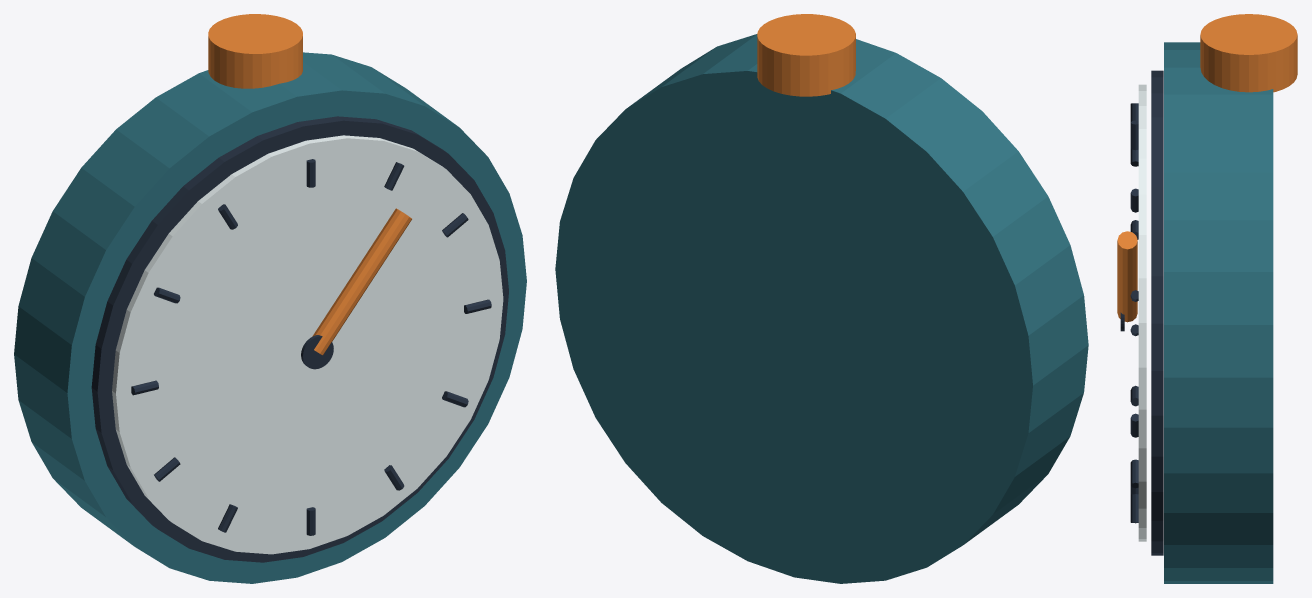
The model's file is timer.glb.
3 renders of one model, left to right at view 1: azimuth 30°, elevation 25°; view 2: azimuth 150°, elevation 25°; view 3: azimuth 270°, elevation 25°, orthographic. The views are drawn at different scales.
Parts seen in each view (by area): view 1: dial, housing, bezel, knob, timer hand0, hub; view 2: housing, knob; view 3: housing, knob, bezel, dial, timer hand0, tick 0, tick 5, tick 4.
Part boxes in pixels (x1,y1,x2,y2): dial: [112, 135, 503, 554]; housing: [14, 52, 526, 583]; bezel: [91, 116, 508, 562]; knob: [208, 14, 302, 88]; timer hand0: [312, 208, 411, 355]; hub: [301, 335, 333, 369]; housing: [555, 34, 1088, 583]; knob: [757, 14, 855, 96]; housing: [1164, 42, 1273, 583]; knob: [1200, 14, 1297, 92]; bezel: [1151, 70, 1163, 555]; dial: [1138, 84, 1146, 541]; timer hand0: [1117, 231, 1137, 322]; tick 0: [1130, 120, 1138, 150]; tick 5: [1130, 494, 1138, 523]; tick 4: [1130, 459, 1138, 488].
Size of the model in its own units: 1.34 by 1.43 by 0.445.
